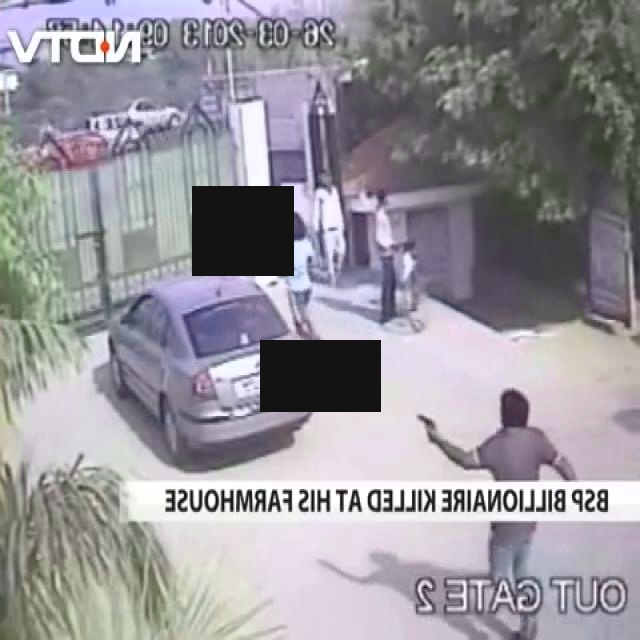gun: (415, 407, 441, 441)
